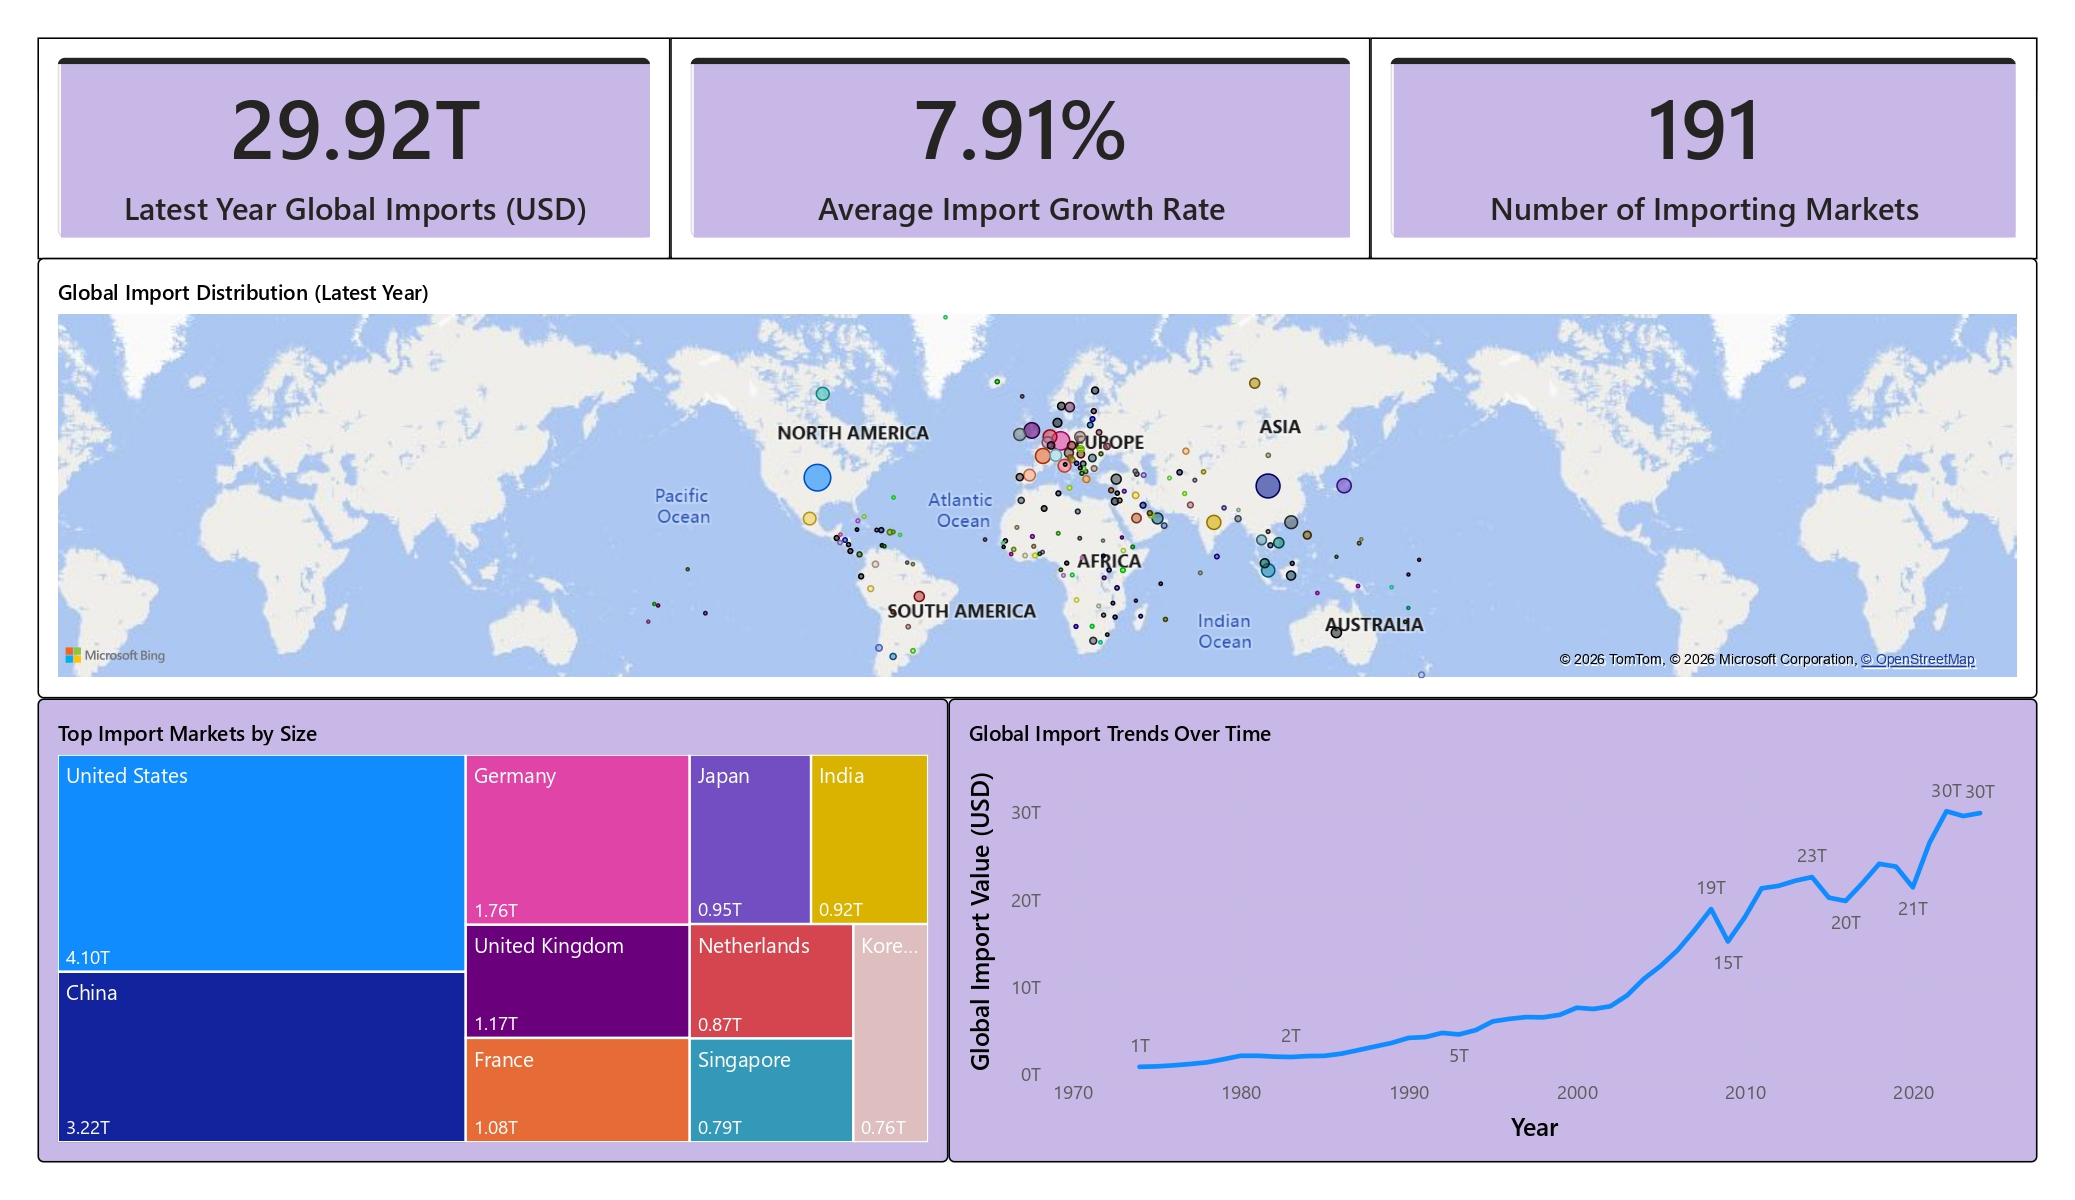

Layout of this report page (visuals, bound fields, positions):
{"tool":"powerbi","page":{"name":"Page 1","canvas":[1280,720],"ordinal":0},"visuals":[{"type":"cardVisual","fields":{"Data":["global_imports_final.Latest Year Global Imports"]},"box":[0,0,405,141.7],"z":0},{"type":"cardVisual","fields":{"Data":["global_imports_final.Avg Growth %"]},"box":[405,0,448.3,141.7],"z":1000},{"type":"cardVisual","fields":{"Data":["global_imports_final.Active Countries"]},"box":[853.3,0,426.7,141.7],"z":2000},{"type":"map","title":"Global Import Distribution (Latest Year)","fields":{"Category":["global_imports_final.Country"],"Size":["global_imports_final.Latest Year Imports"],"Series":["global_imports_final.Country"]},"box":[0,141.4,1280,281.4],"z":3000},{"type":"treemap","title":"Top Import Markets by Size","fields":{"Group":["global_imports_final.Country"],"Values":["global_imports_final.Latest Year Imports"]},"box":[0,422.9,582.9,297.1],"z":4000},{"type":"lineChart","title":"Global Import Trends Over Time","fields":{"Category":["global_imports_final.year"],"Y":["Sum(global_imports_final.import_value)"]},"box":[582.9,422.9,697.1,297.1],"z":5000}]}

Visuals, with their boxes in screenshot pixels (x1, y1, x2, y2):
cardVisual - global_imports_final.Latest Year Global Imports: bbox=(54, 38, 679, 256)
cardVisual - global_imports_final.Avg Growth %: bbox=(679, 38, 1370, 256)
cardVisual - global_imports_final.Active Countries: bbox=(1370, 38, 2028, 256)
"Global Import Distribution (Latest Year)" map: bbox=(54, 256, 2028, 690)
"Top Import Markets by Size" treemap: bbox=(54, 690, 953, 1148)
"Global Import Trends Over Time" lineChart: bbox=(953, 690, 2028, 1148)
